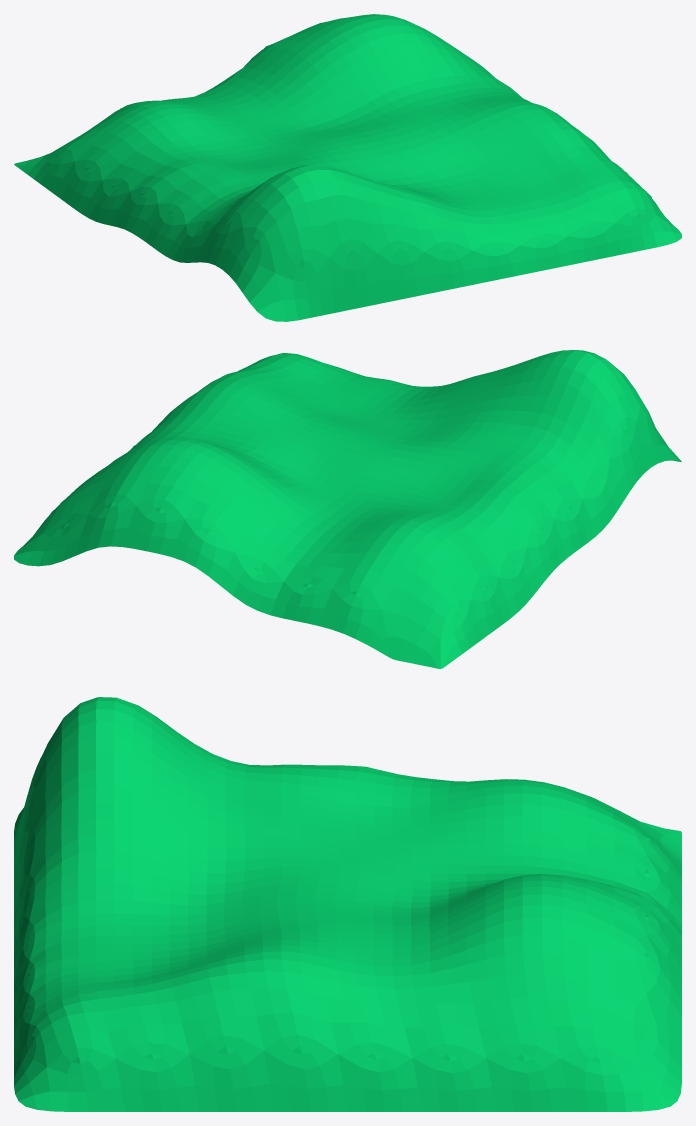
The model's file is ground.fbx.
3 views of the same model, one above another, from view 1: azimuth 30°, elevation 25°; view 2: azimuth 150°, elevation 25°; view 3: azimuth 270°, elevation 25° (orthographic). The views are drawn at different scales.
Parts seen in each view (by area): view 1: Grid; view 2: Grid; view 3: Grid.
Boxes of the visible parts, <box> form: Grid: <box>14,14,681,321</box>; Grid: <box>14,350,681,668</box>; Grid: <box>14,697,681,1111</box>.
Bounding box in the file's own units: 623 × 186 × 622.
